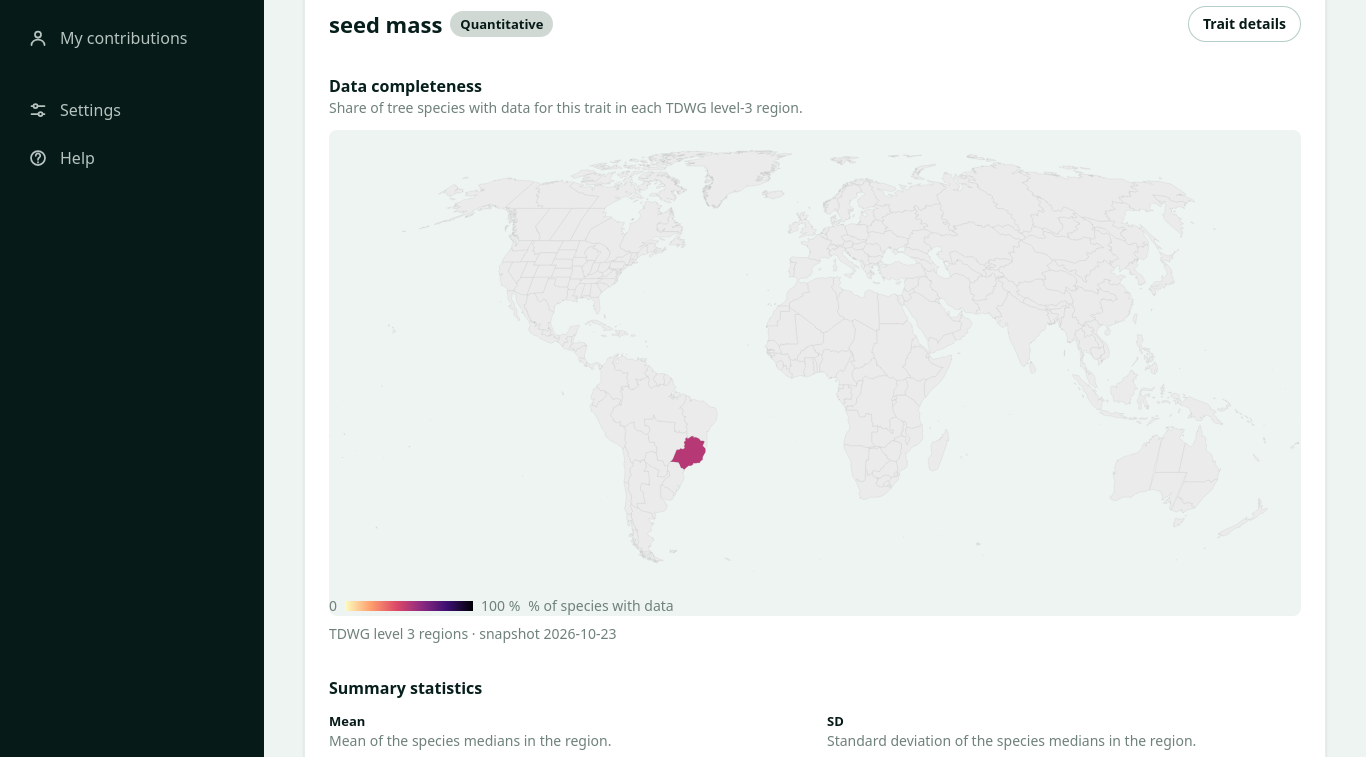
Test: RFC-76 R7 MapsPage keyboard › the full-size viewer opens on a map and Left/Right step through the trait maps in page order, wrapping
This screenshot has width=1366, height=757.
(page scrolled)
Click the button with aria-label "Data completeness map of seed mass, open full size" at (815, 373), box [329,130,1301,616]
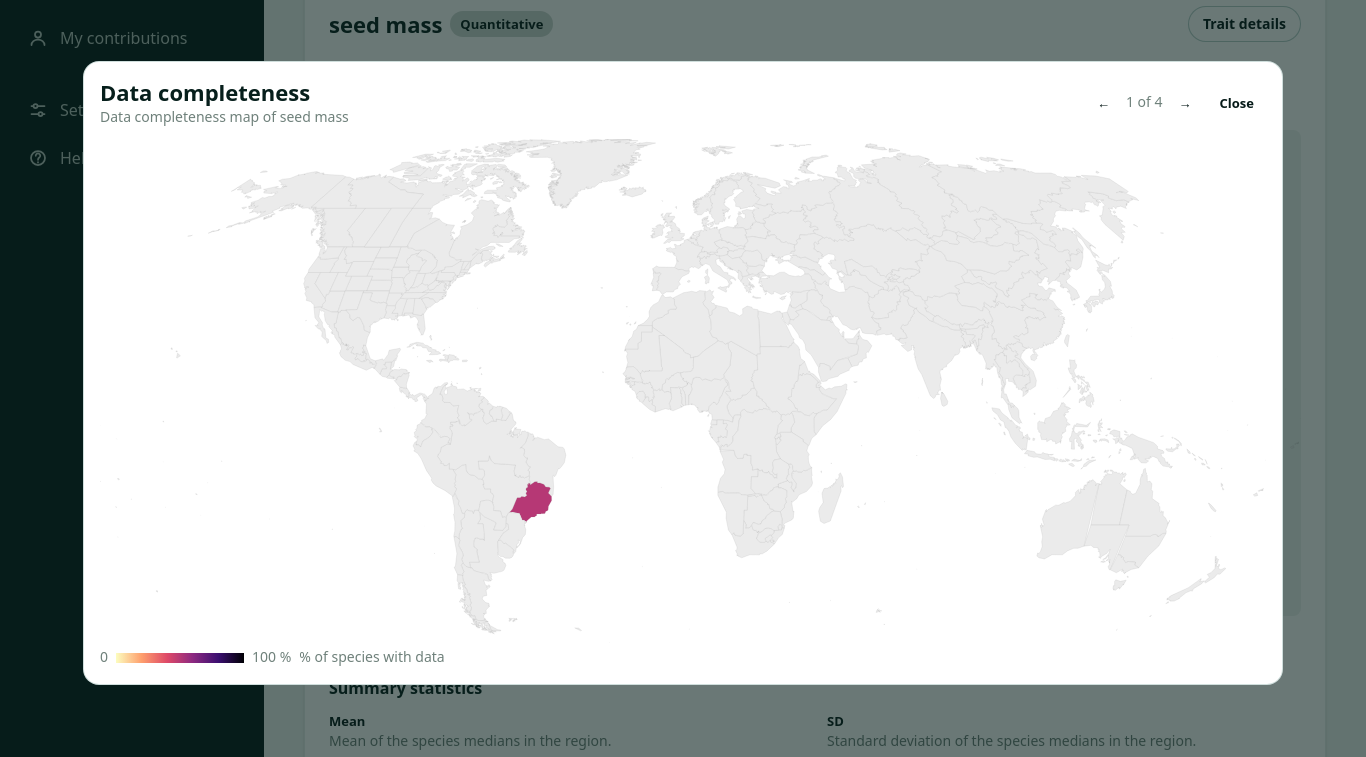
Result: the heading "Data completeness" is shown at [100,77,310,107]
Result: the text "Data completeness map of seed mass" is shown at [100,107,349,127]
Press Arrowright
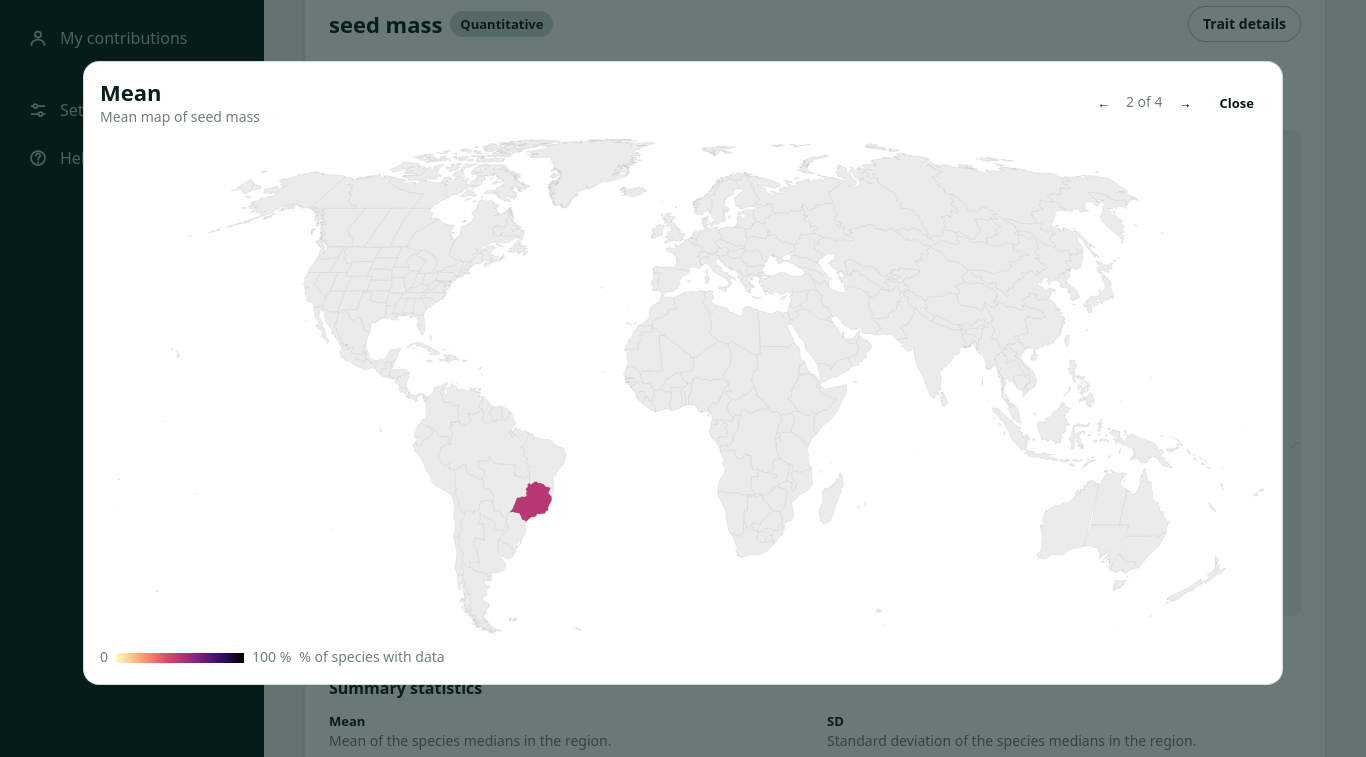
Result: the heading "Mean" is shown at [100,77,162,107]
Result: the text "Data completeness map of seed mass" reads "Mean map of seed mass" at [100,107,260,126]
Press Arrowleft Arrowleft
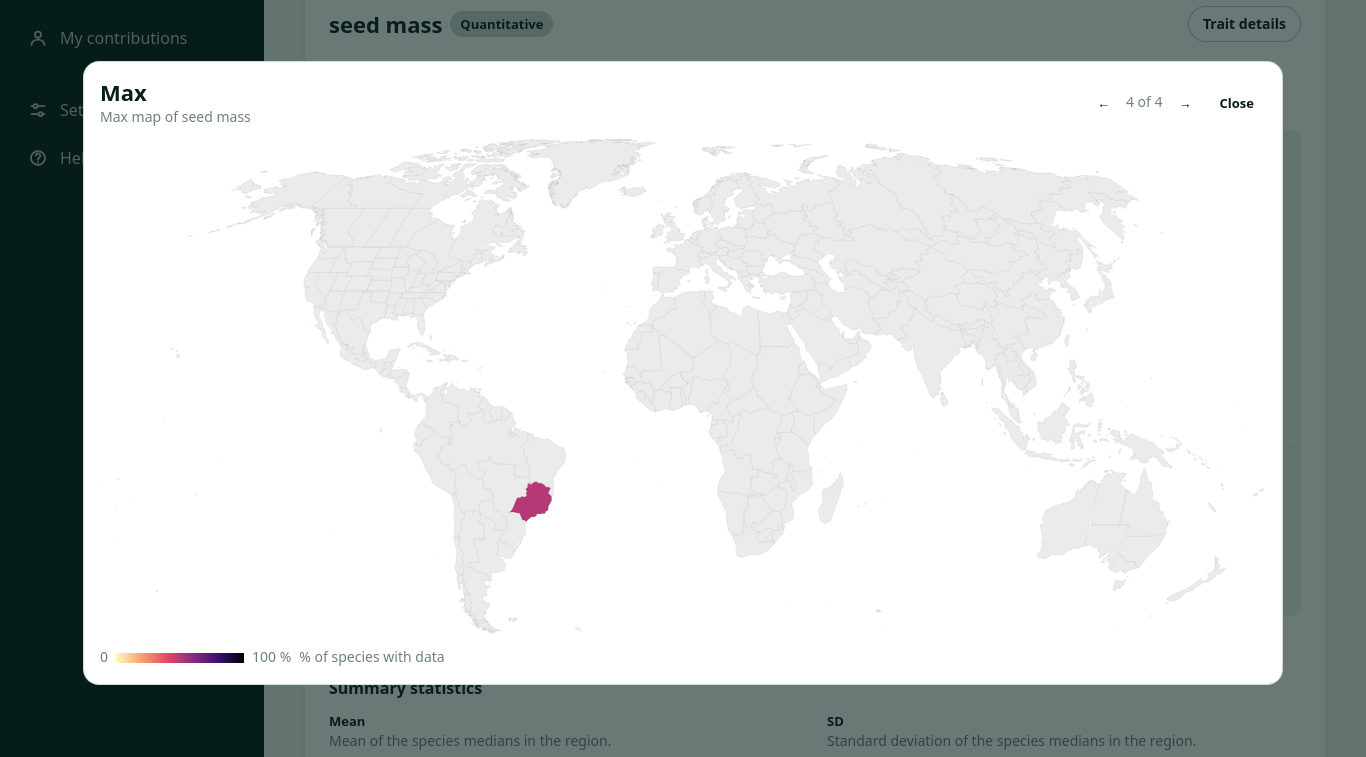
Result: the heading "Max" is shown at [100,77,147,107]
Result: the text "Data completeness map of seed mass" reads "Max map of seed mass" at [100,107,251,126]
Press Arrowright
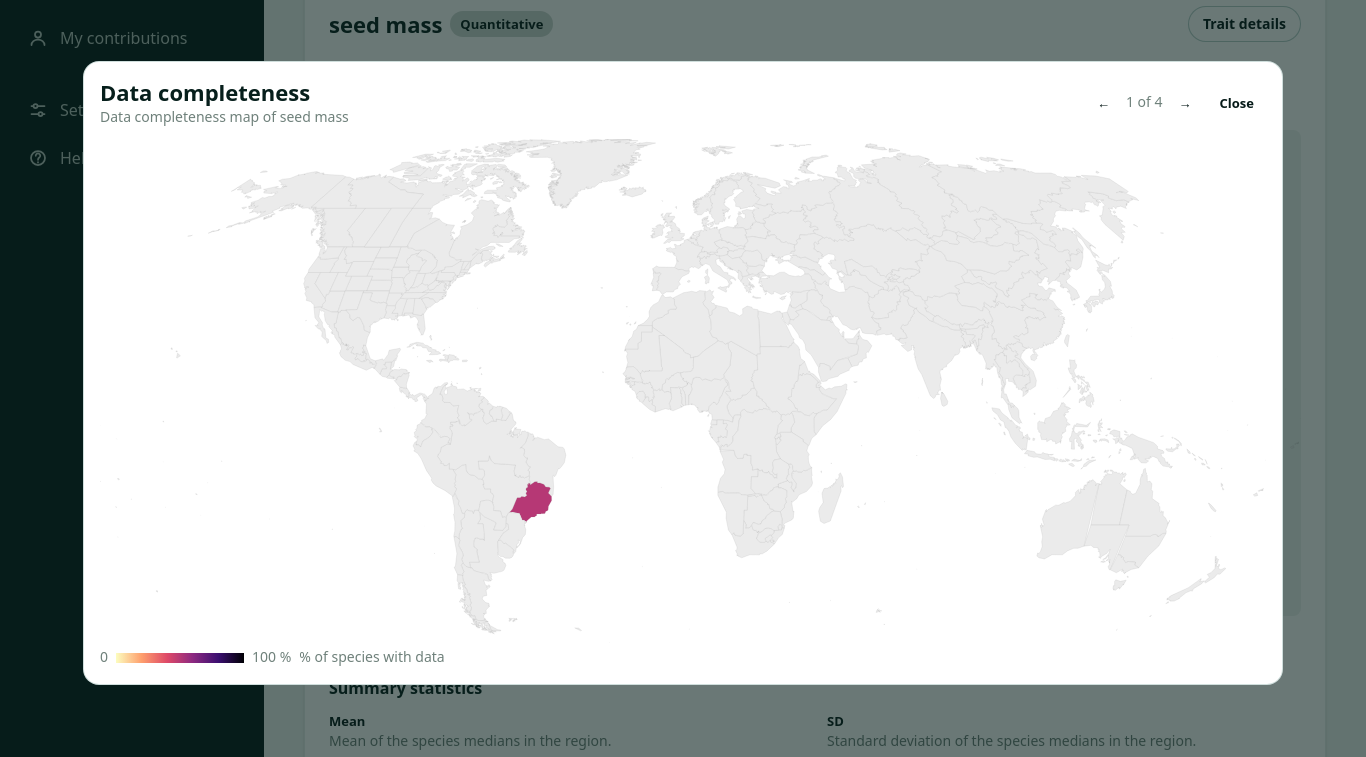
Result: the text "Data completeness map of seed mass" is shown at [100,107,349,127]
Click the button "Close" at (1237, 103), box [1208,88,1266,118]
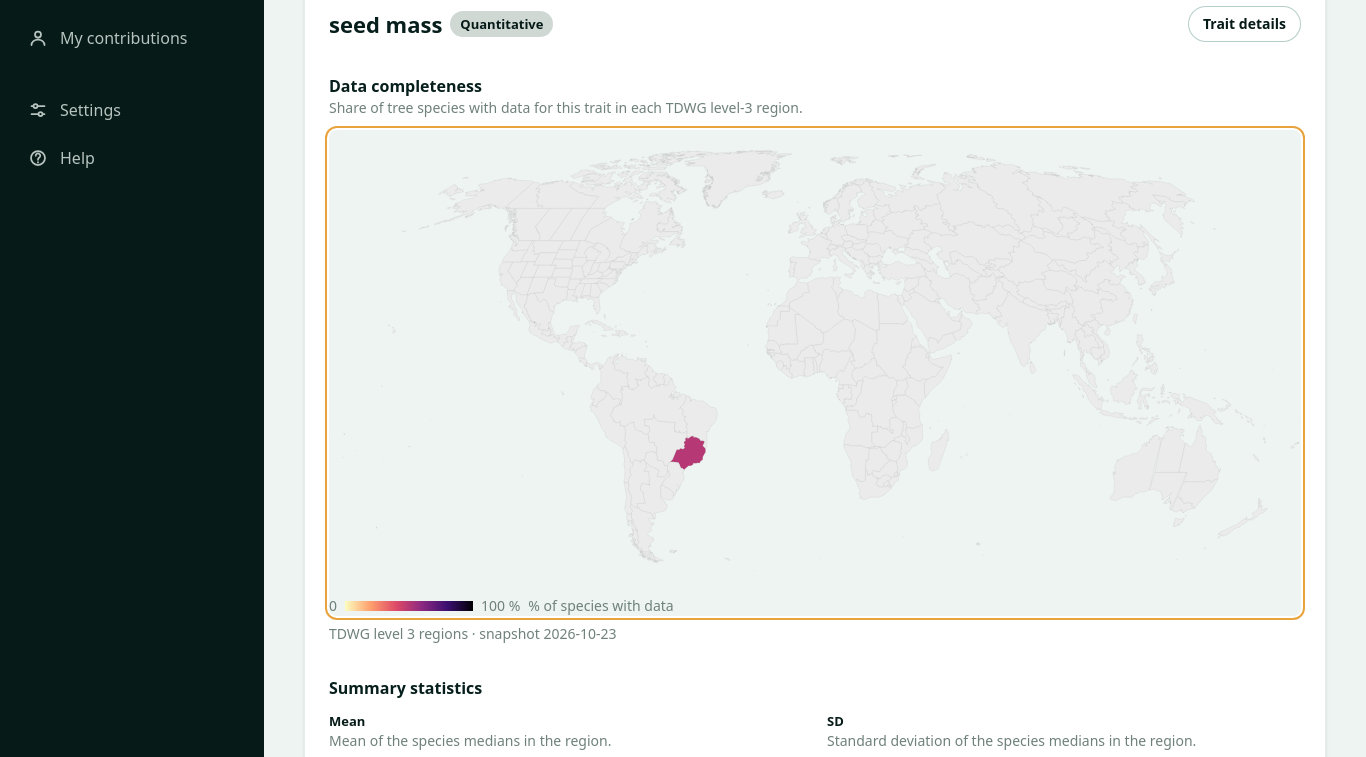
Result: the dialog is gone
